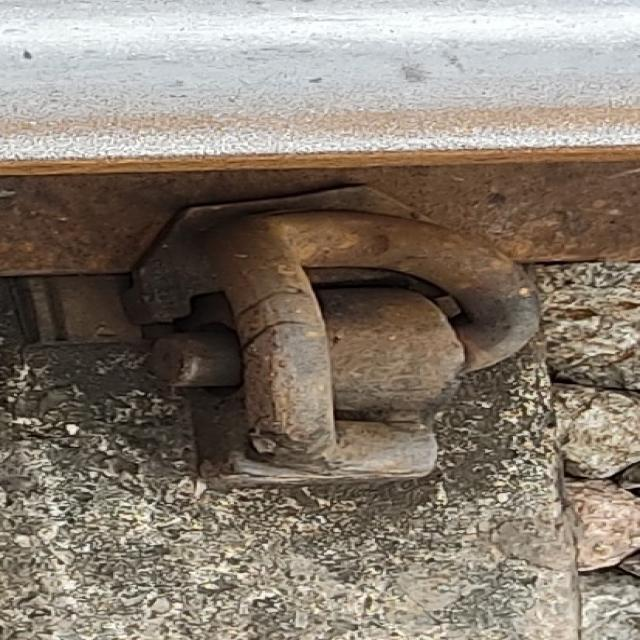track_bolt: (195, 204, 551, 486)
